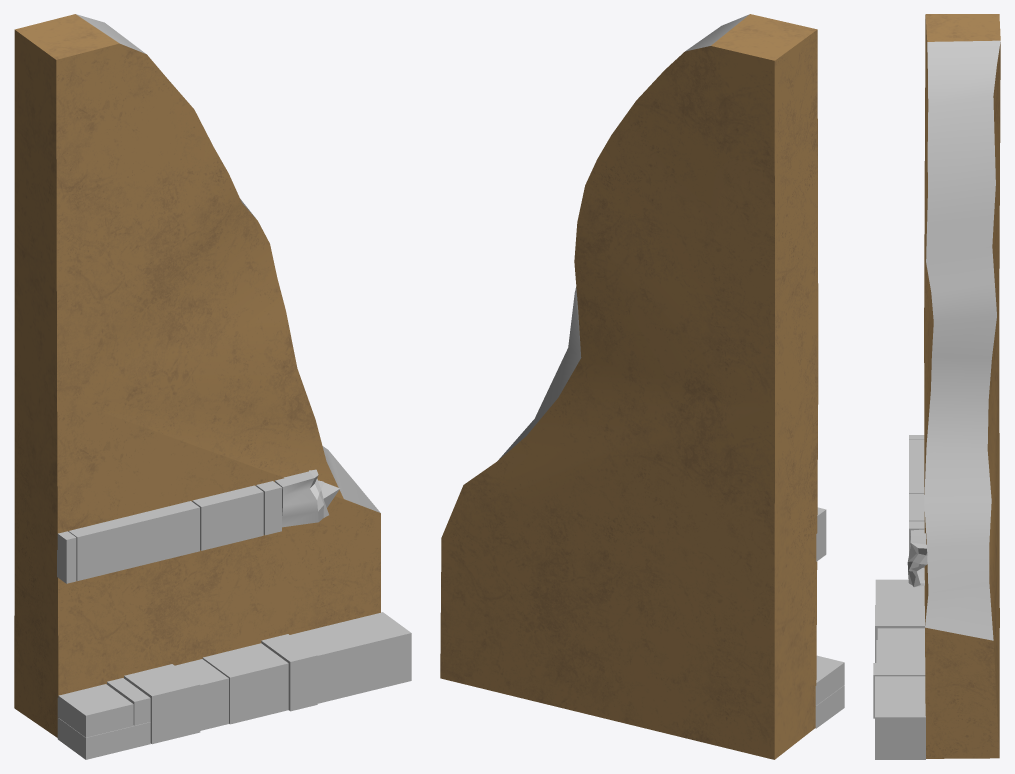
Rendered from FBX_wall_break.fbx.
3 renders of one model, left to right at view 1: azimuth 30°, elevation 25°; view 2: azimuth 150°, elevation 25°; view 3: azimuth 270°, elevation 25°, orthographic. The views are drawn at different scales.
Parts seen in each view (by area): view 1: wall_break; view 2: wall_break; view 3: wall_break.
Boxes of the visible parts, bbox=[...] form: wall_break: bbox=[14, 14, 411, 759]; wall_break: bbox=[440, 14, 844, 759]; wall_break: bbox=[873, 14, 1000, 759].
Size of the model in its own units: 2.01 by 4 by 0.7645.
